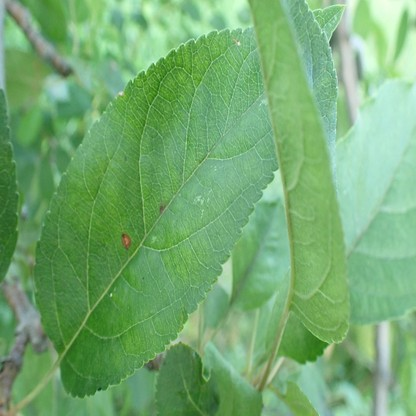frogeye_leaf_spot: (121, 232, 131, 248)
